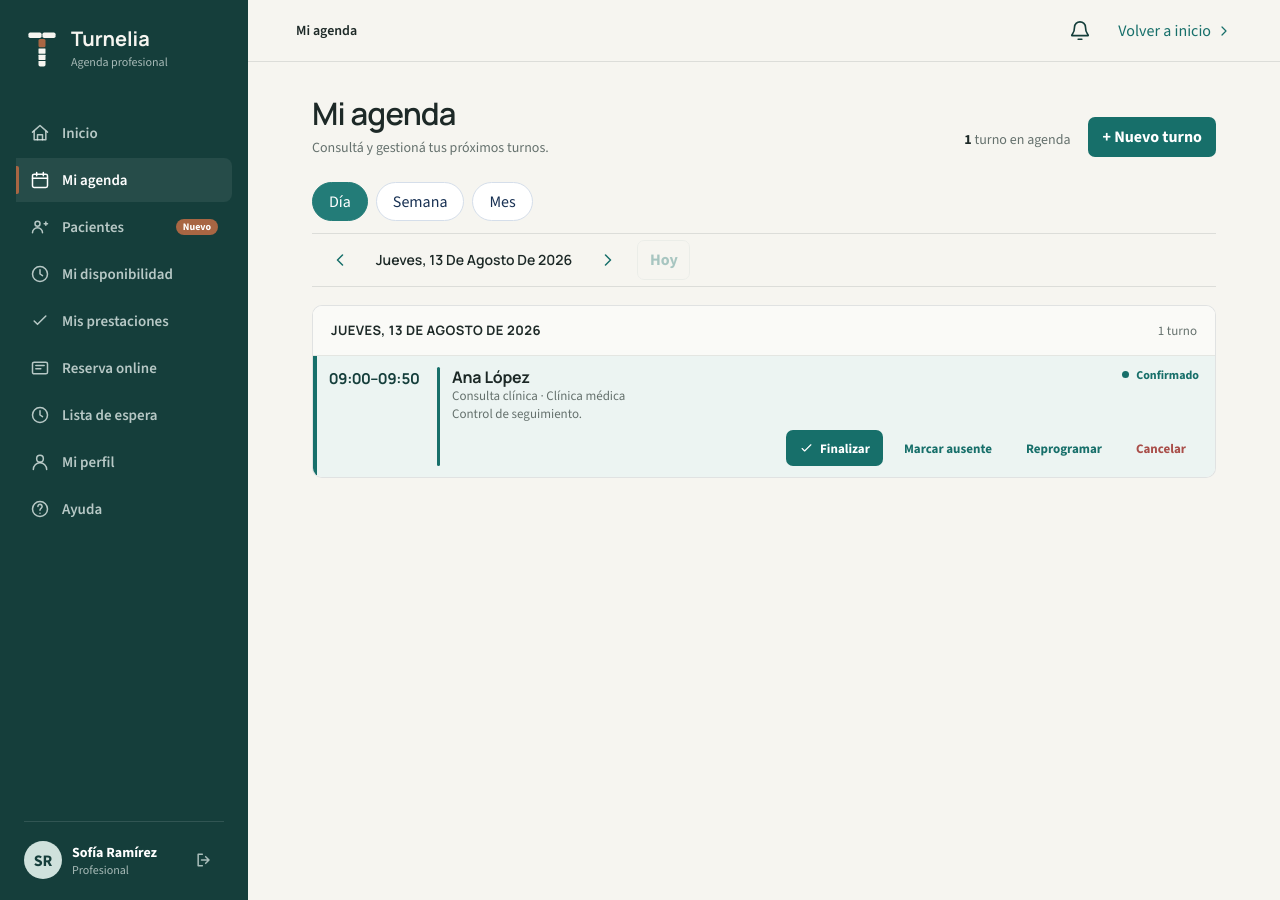
Test: agenda propia profesional Signature › muestra un error de acción asociado sin perder la agenda
Click the button "Marcar ausente". click: {"x": 948, "y": 448}
box: [891,430,1005,466]
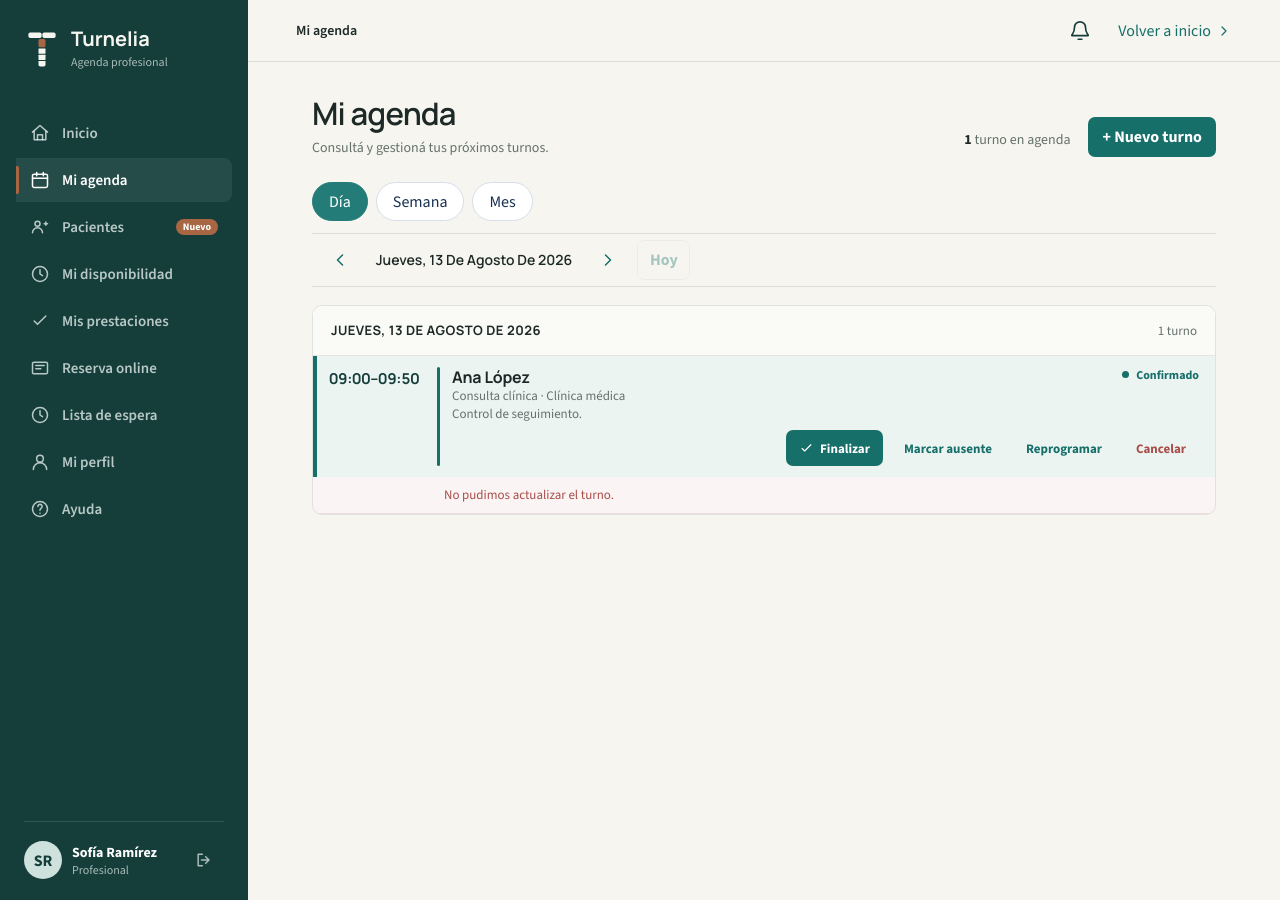
Check: the heading "Ana López" is shown, box [452,366,530,388]
Check: the message shows "No pudimos actualizar el turno", box [444,486,614,503]
